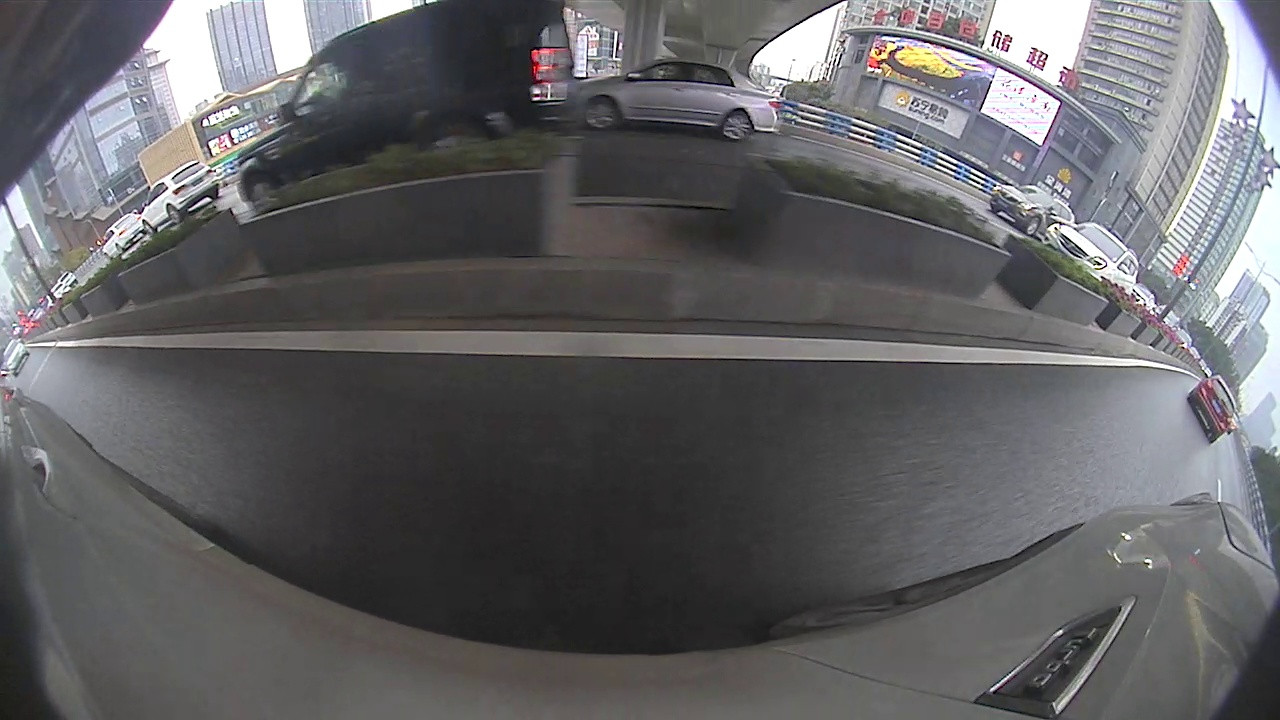car: (234, 2, 574, 210), (572, 60, 781, 144), (140, 157, 225, 238), (1186, 375, 1237, 444)
front: (585, 92, 622, 132)
rear: (719, 109, 752, 144), (166, 208, 182, 226)
